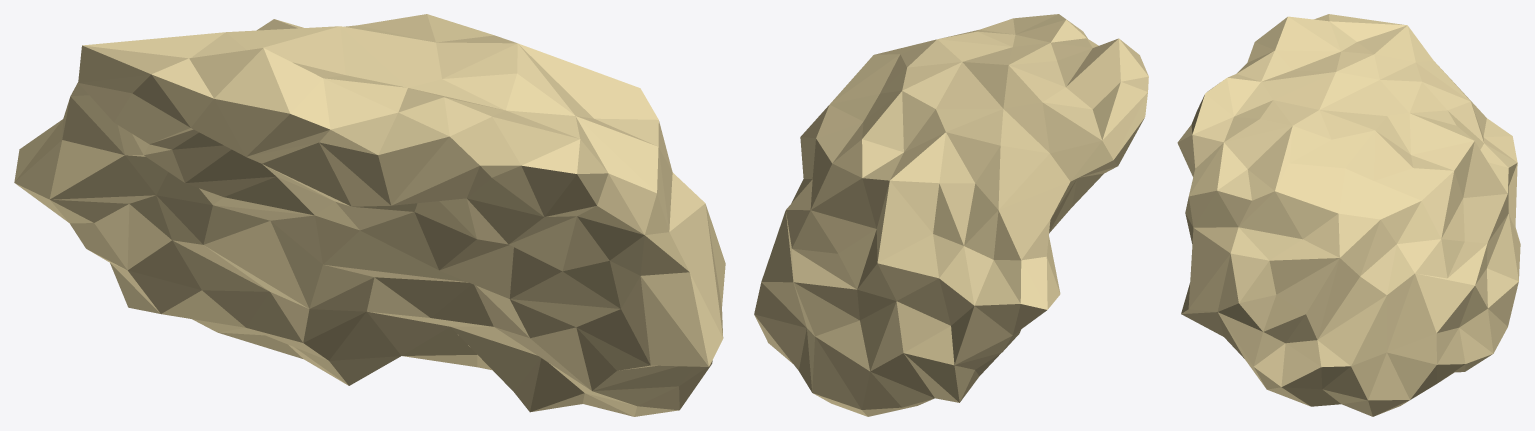
The model's file is Asteroid (55).fbx.
3 views of the same model, side by side, from view 1: azimuth 30°, elevation 25°; view 2: azimuth 150°, elevation 25°; view 3: azimuth 270°, elevation 25° (orthographic). The views are drawn at different scales.
Visible parts, largest first — view 1: Asteroid190; view 2: Asteroid190; view 3: Asteroid190.
Boxes of the visible parts, x1,y1,x2,y2 form: Asteroid190: (14, 14, 725, 416); Asteroid190: (754, 14, 1148, 416); Asteroid190: (1177, 14, 1520, 416).
Size of the model in its own units: 416 by 379 by 403.
